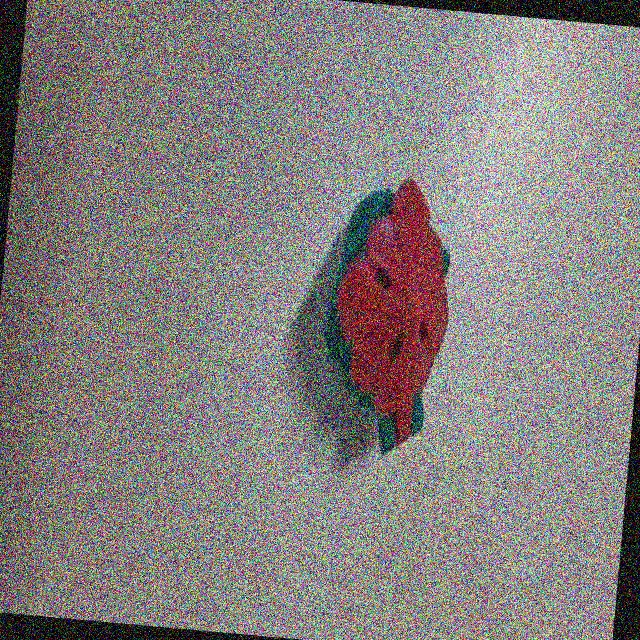House: (302, 125, 475, 468)
